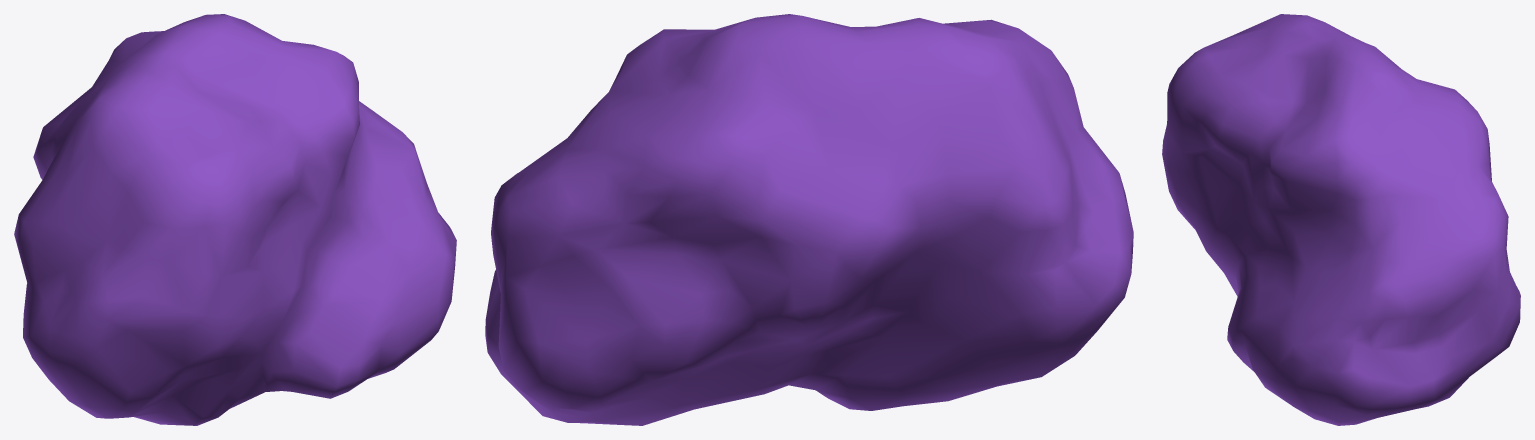
File: Cyt_PR.fbx
The picture shows the model from 3 angles, left to right: view 1: azimuth 30°, elevation 25°; view 2: azimuth 150°, elevation 25°; view 3: azimuth 270°, elevation 25°; orthographic projection. The views are drawn at different scales.
Visible parts, largest first — view 1: CoarseMS_1hpv; view 2: CoarseMS_1hpv; view 3: CoarseMS_1hpv.
Part boxes in pixels (x1,y1,x2,y2): CoarseMS_1hpv: [14, 14, 456, 425]; CoarseMS_1hpv: [485, 14, 1133, 425]; CoarseMS_1hpv: [1162, 14, 1520, 425].
Size of the model in its own units: 54.81 by 39.45 by 42.85.
